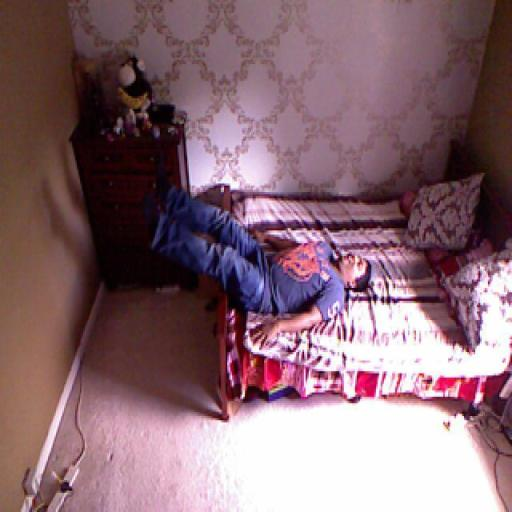Fall: (143, 156, 372, 350)
